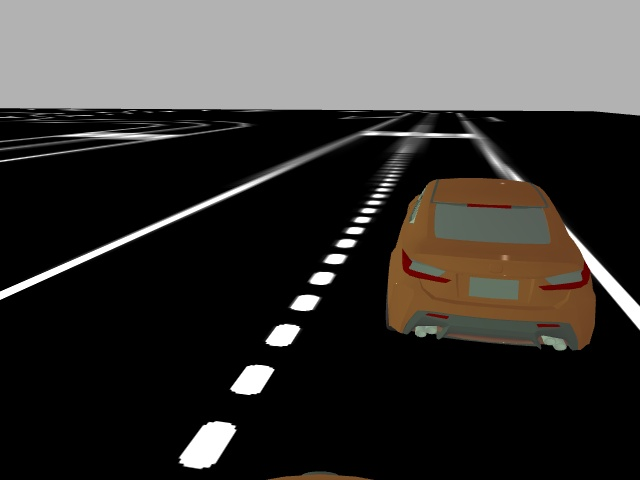obstacle_car: (384, 175, 602, 352)
